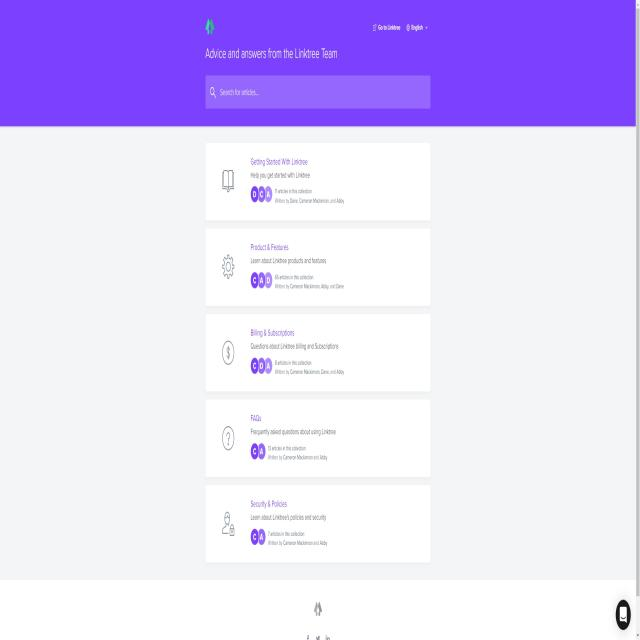search: (204, 68, 434, 118)
